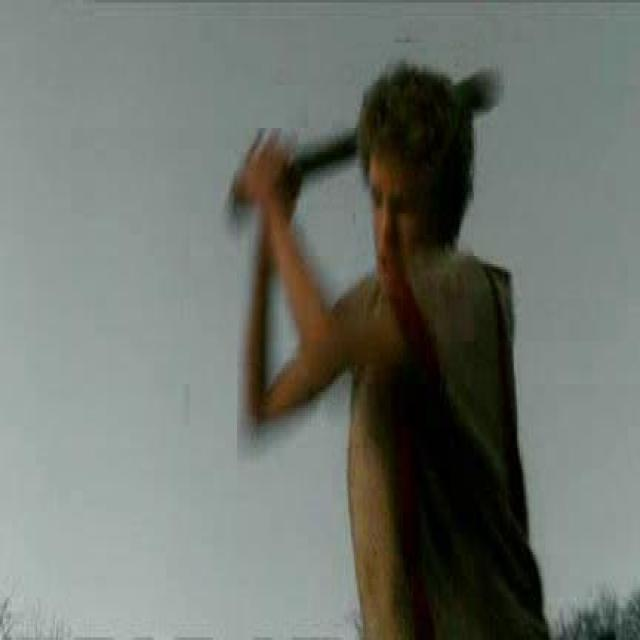fight: (229, 34, 574, 640)
